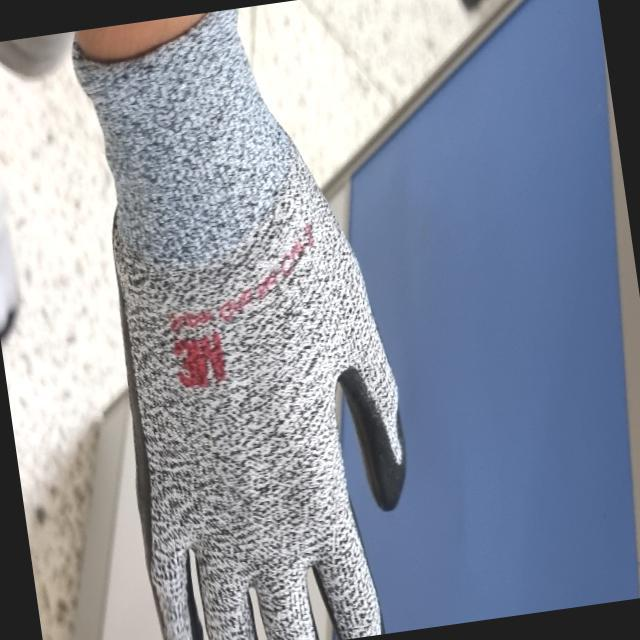Gloves: (67, 0, 408, 640)
